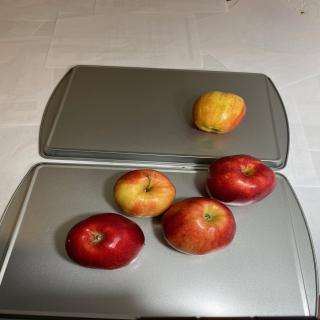Apple: (65, 213, 145, 270), (161, 197, 237, 256), (205, 154, 276, 206), (113, 169, 176, 217), (192, 90, 247, 134)
